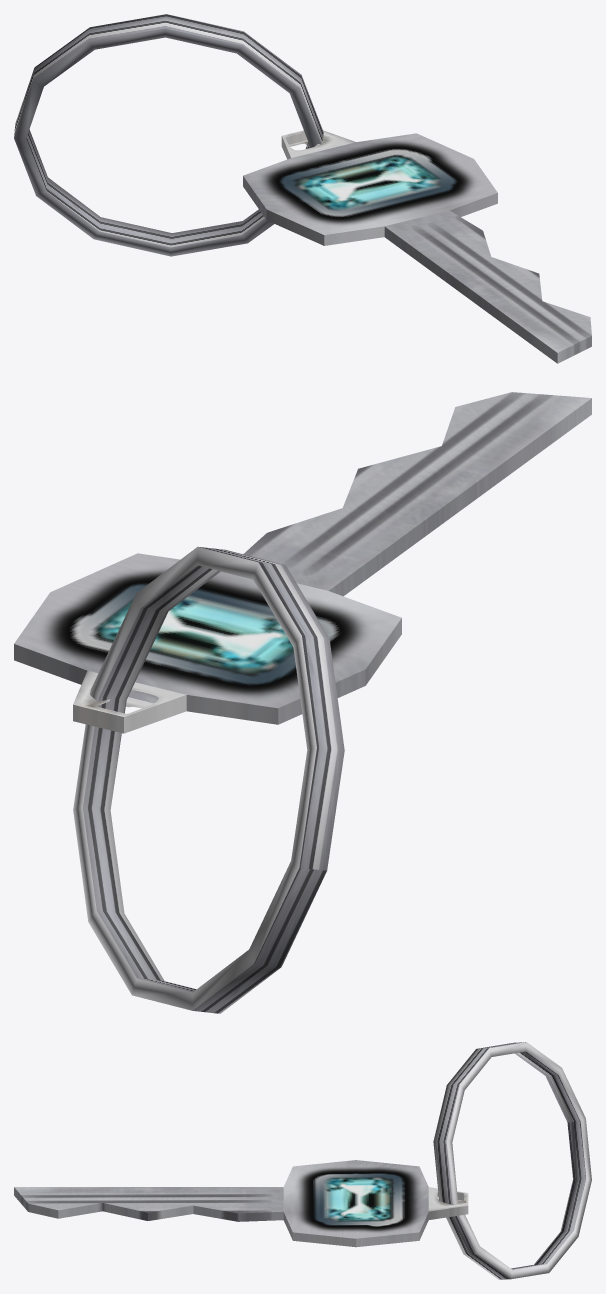
The model's file is key_j_aquamarine.fbx.
The picture shows the model from 3 angles, top to bottom: view 1: azimuth 30°, elevation 25°; view 2: azimuth 150°, elevation 25°; view 3: azimuth 270°, elevation 25°; orthographic projection. The views are drawn at different scales.
Visible parts, largest first — view 1: key_j_aqua; view 2: key_j_aqua; view 3: key_j_aqua.
Boxes of the visible parts, x1,y1,x2,y2 form: key_j_aqua: (14,14,591,363); key_j_aqua: (14,392,591,1013); key_j_aqua: (14,1042,591,1279).
Size of the model in its own units: 10.09 by 8.2 by 20.21.
1 material, 1 textured.
